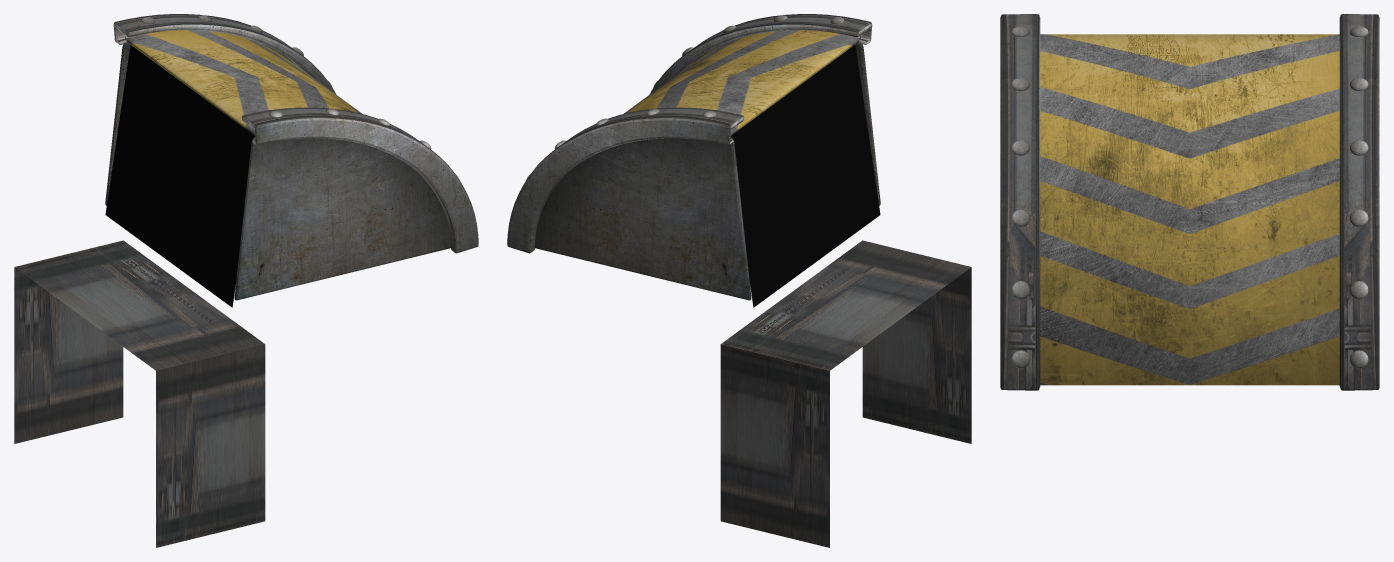
Rendered from static.glb.
3 renders of one model, left to right at view 1: azimuth 30°, elevation 25°; view 2: azimuth 150°, elevation 25°; view 3: azimuth 270°, elevation 25°, orthographic. The views are drawn at different scales.
Visible parts, largest first — view 1: Cube, Plane, darken, Extrude_1, Extrude; view 2: Cube, Plane, darken, Extrude_1, Extrude; view 3: Extrude, Extrude_1, Sphere_4, Sphere_5, Sphere_3, Sphere_2.
Part boxes in pixels (left/top/right/bottom): Cube: left=14, top=240, right=265, bottom=547; Plane: left=105, top=42, right=450, bottom=300; darken: left=105, top=45, right=255, bottom=307; Extrude_1: left=113, top=14, right=478, bottom=253; Extrude: left=126, top=30, right=361, bottom=135; Cube: left=720, top=240, right=971, bottom=547; Plane: left=535, top=42, right=880, bottom=300; darken: left=730, top=45, right=880, bottom=307; Extrude_1: left=507, top=14, right=872, bottom=253; Extrude: left=624, top=30, right=859, bottom=135; Extrude: left=1040, top=34, right=1339, bottom=385; Extrude_1: left=1000, top=14, right=1379, bottom=390; Sphere_4: left=1011, top=281, right=1368, bottom=299; Sphere_5: left=1011, top=350, right=1368, bottom=368; Sphere_3: left=1011, top=209, right=1368, bottom=226; Sphere_2: left=1011, top=140, right=1368, bottom=155.
Bounding box in the file's own units: 2.94 × 3.47 × 2.24.
5 materials, 5 textured.
